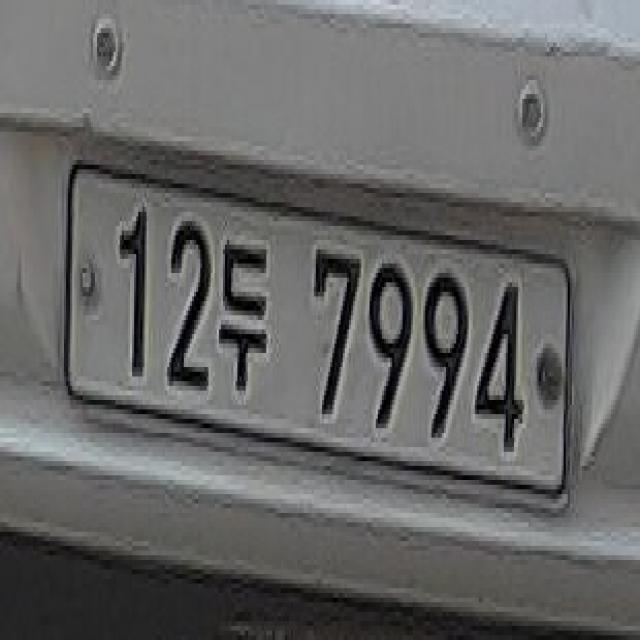1: (107, 183, 157, 404)
2: (163, 207, 215, 405)
4: (472, 278, 530, 470)
7: (308, 226, 363, 452)
9: (419, 264, 471, 452), (365, 254, 415, 442)
du: (217, 230, 270, 404)
license_plate: (56, 141, 574, 537)
